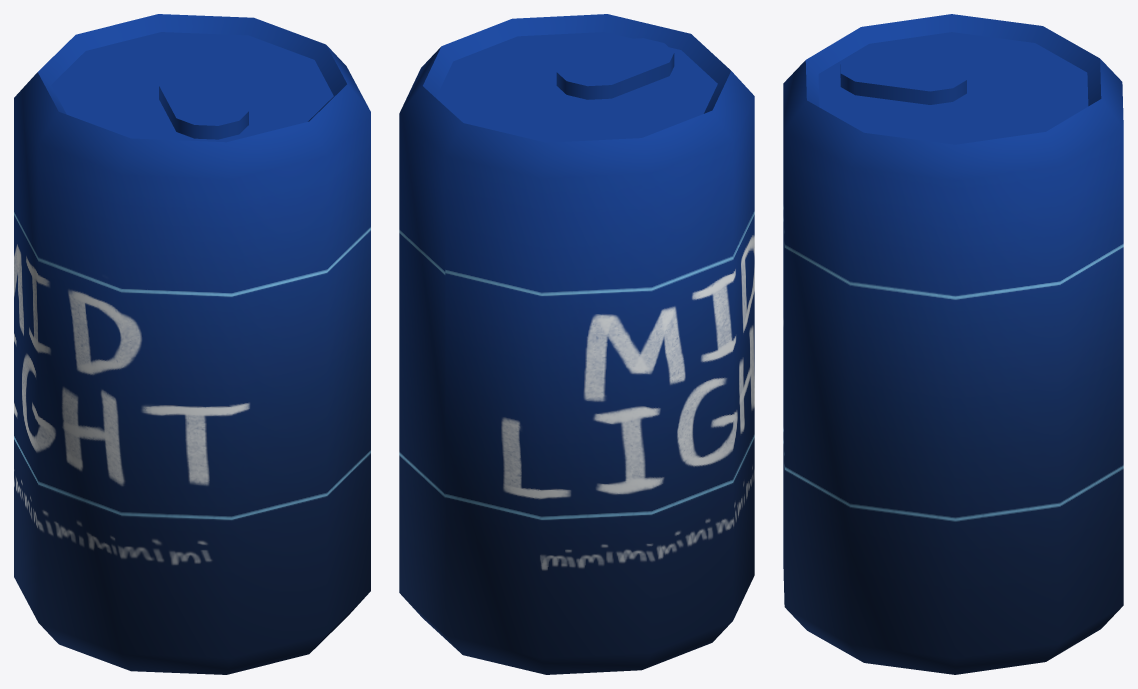
File: Can.fbx
3 renders of one model, left to right at view 1: azimuth 30°, elevation 25°; view 2: azimuth 150°, elevation 25°; view 3: azimuth 270°, elevation 25°, orthographic.
Visible parts, largest first — view 1: Cans; view 2: Cans; view 3: Cans.
Part boxes in pixels (x1=…): Cans: x1=14, y1=14, x2=370, y2=674; Cans: x1=399, y1=14, x2=754, y2=674; Cans: x1=783, y1=14, x2=1123, y2=674.
Size of the model in its own units: 12.19 by 11.64 by 20.05.
